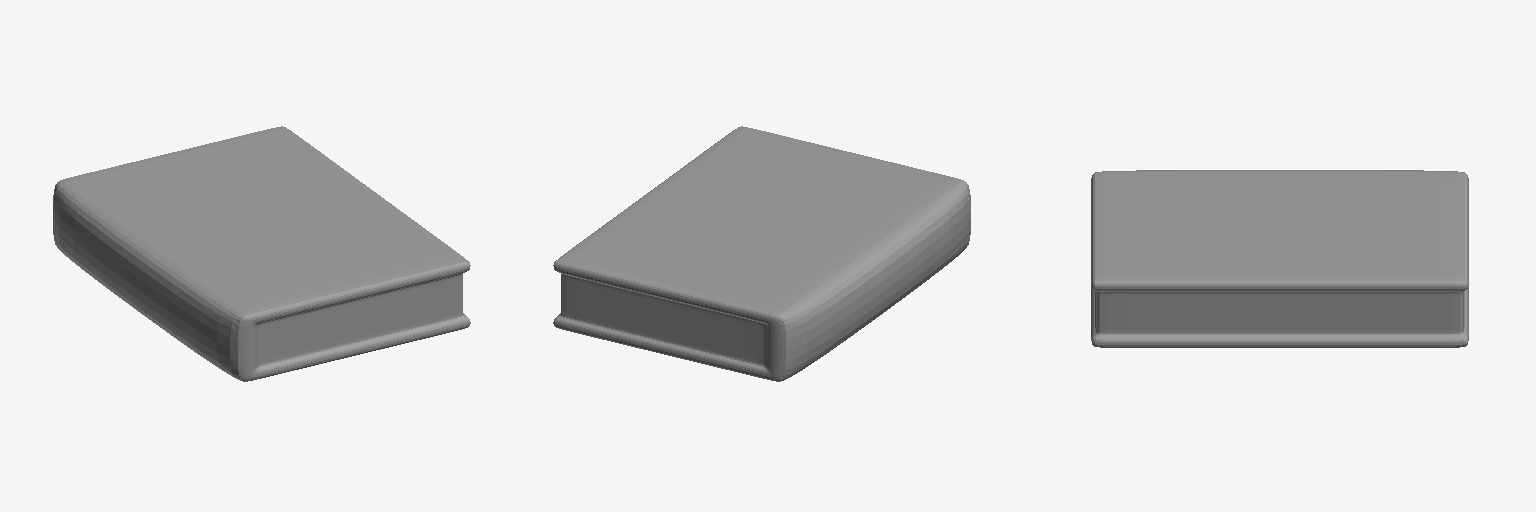
Rendered from ChurchBookClosedV2.obj.
The picture shows the model from 3 angles: view 1: azimuth 30°, elevation 25°; view 2: azimuth 150°, elevation 25°; view 3: azimuth 270°, elevation 25°; orthographic projection.
Parts seen in each view (by area): view 1: ChurchBookClosedV2; view 2: ChurchBookClosedV2; view 3: ChurchBookClosedV2.
Part boxes in pixels (bbox=[...]): ChurchBookClosedV2: bbox=[53, 126, 470, 381]; ChurchBookClosedV2: bbox=[553, 126, 970, 381]; ChurchBookClosedV2: bbox=[1091, 170, 1468, 347].
Size of the model in its own units: 1.5 by 0.4 by 2.